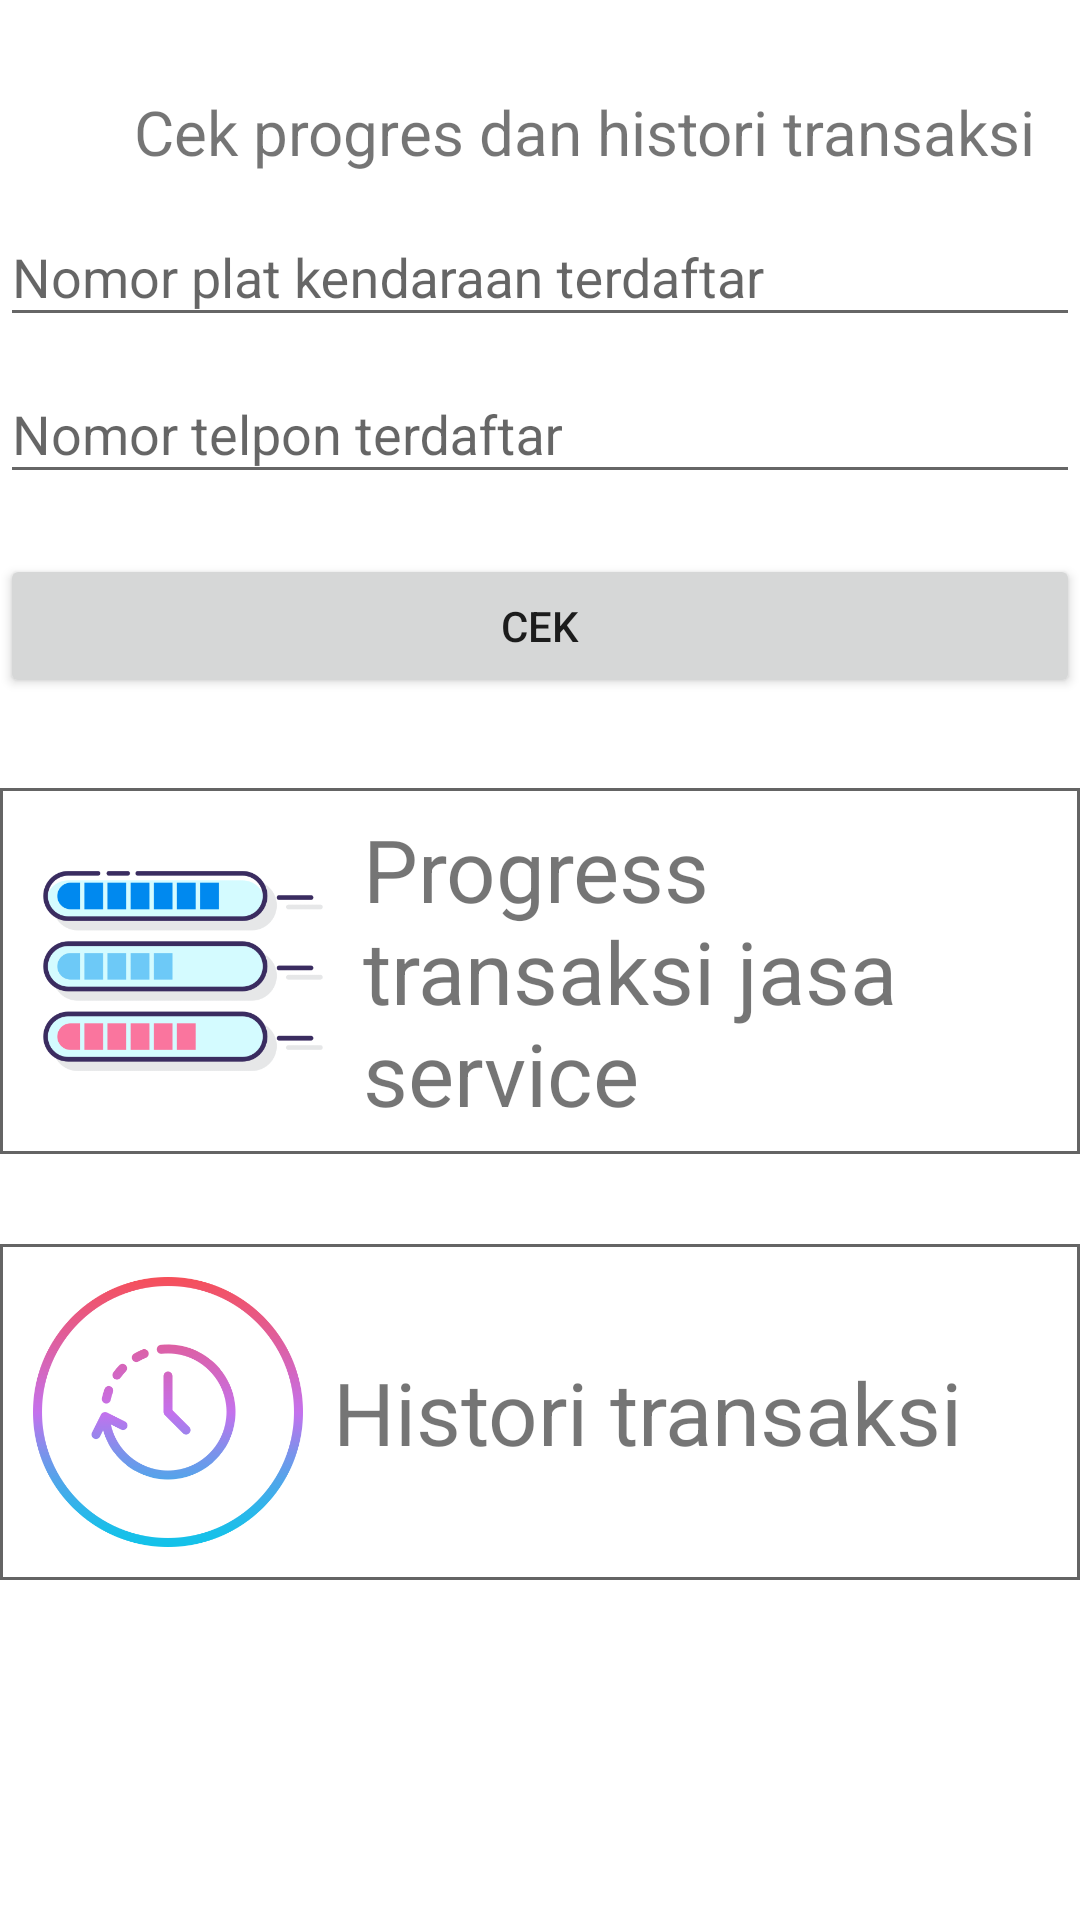

Named icons in this screenshot (1080px×1920px) and their bounding boxes, {"x1": x1, "y1": y1, "x2": x2, "y2": y2}:
history: {"x1": 33, "y1": 1277, "x2": 303, "y2": 1547}
